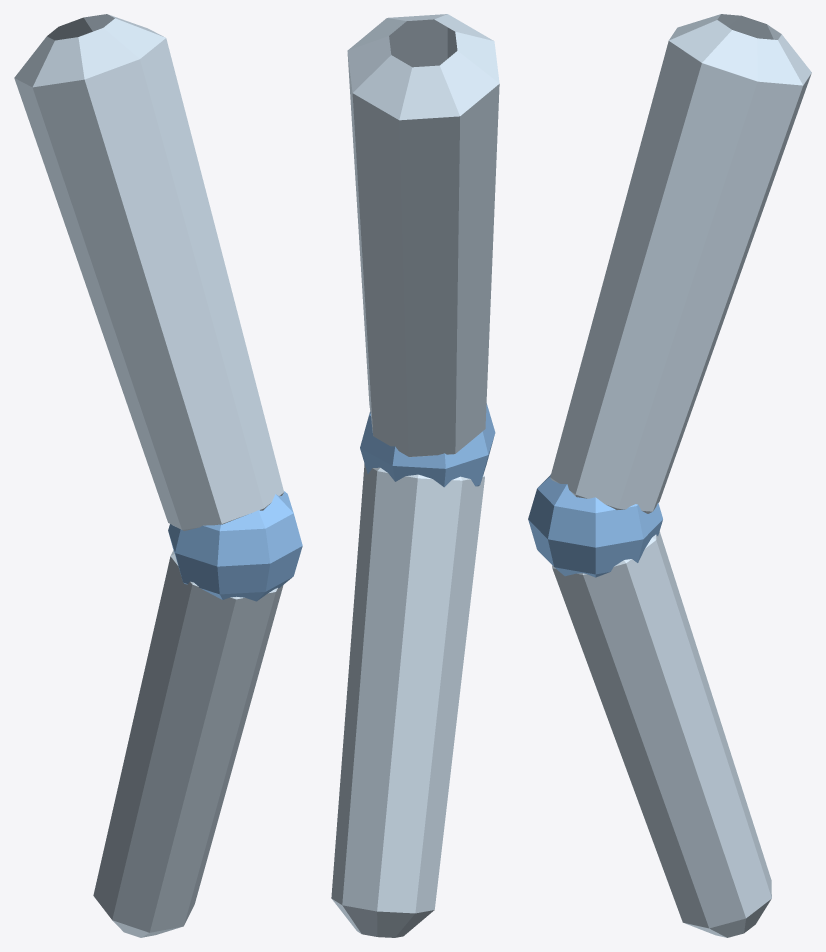
File: frost_skeleton_leg_R.obj
3 renders of one model, left to right at view 1: azimuth 30°, elevation 25°; view 2: azimuth 150°, elevation 25°; view 3: azimuth 270°, elevation 25°, orthographic. The views are drawn at different scales.
Visible parts, largest first — view 1: leg_upper_R, leg_lower_R, leg_joint_R; view 2: leg_upper_R, leg_lower_R, leg_joint_R; view 3: leg_upper_R, leg_lower_R, leg_joint_R.
Part boxes in pixels (<box>): leg_upper_R: <box>14,14,283,530</box>; leg_lower_R: <box>93,550,283,937</box>; leg_joint_R: <box>168,491,302,601</box>; leg_upper_R: <box>347,14,499,457</box>; leg_lower_R: <box>331,463,484,937</box>; leg_joint_R: <box>360,403,495,487</box>; leg_upper_R: <box>550,14,811,513</box>; leg_lower_R: <box>552,531,771,937</box>; leg_joint_R: <box>528,474,662,577</box>.
Size of the model in its own units: 0.1666 by 0.7405 by 0.2139.
